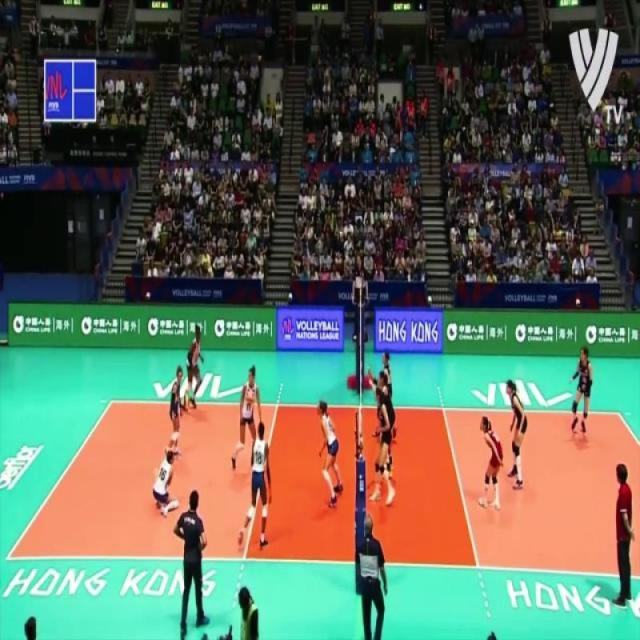volleyball: (182, 393, 190, 410)
